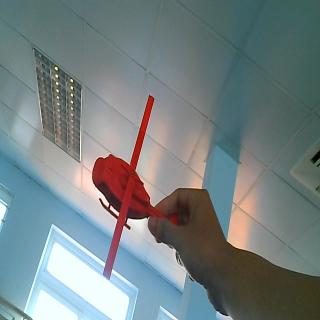Helicopter: (88, 93, 160, 281)
